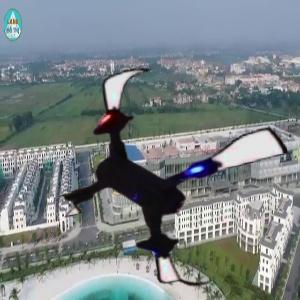drone: (50, 54, 291, 295)
